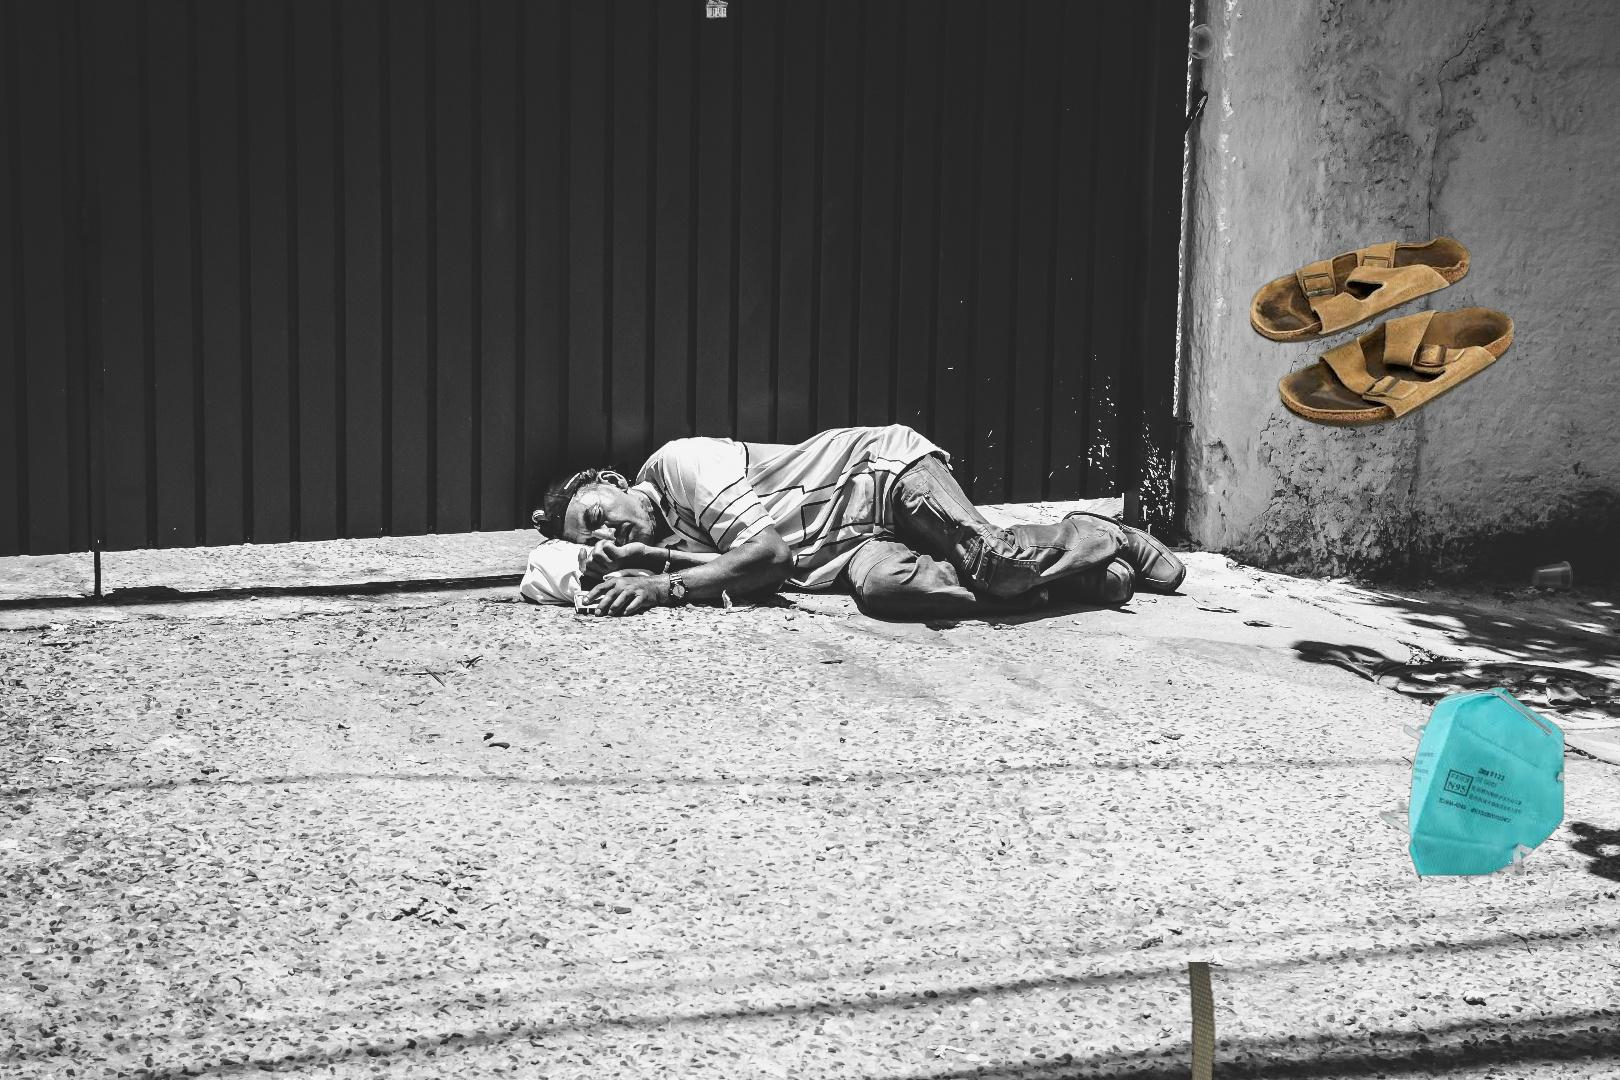shoes: (1250, 237, 1514, 428)
trash: (1377, 683, 1567, 876)
trashbox-cardboard: (1100, 962, 1491, 1080)
